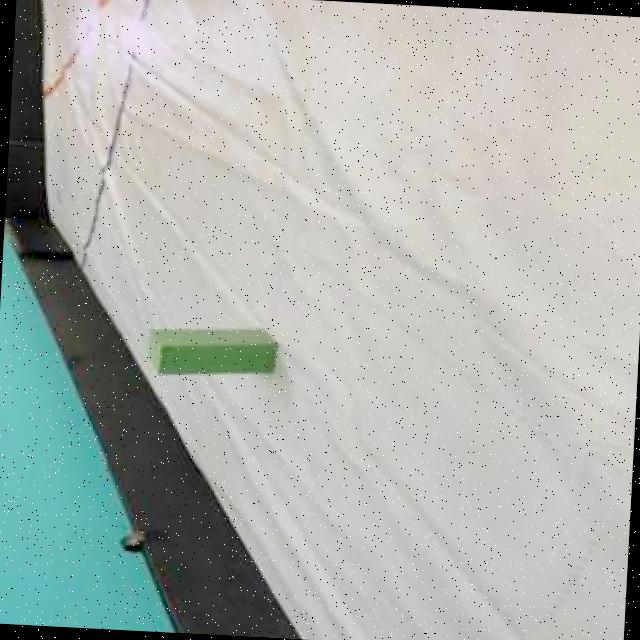greenbox: (143, 324, 280, 381)
